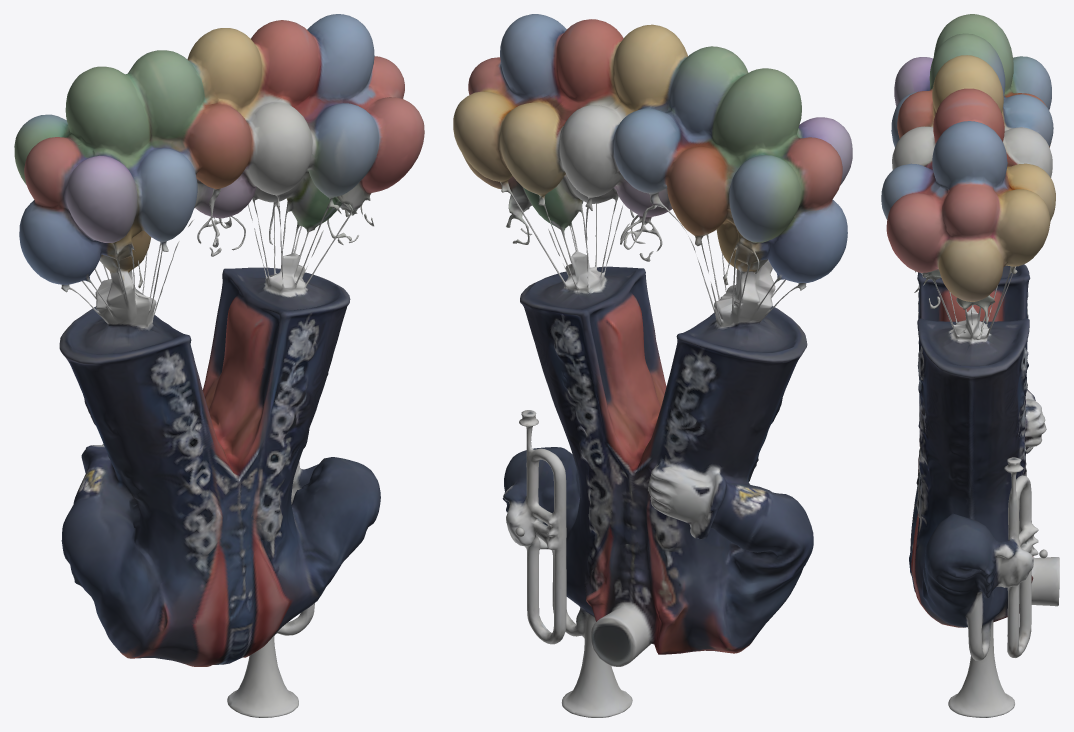
Rendered from Baron_von_Bounce.glb.
3 views of the same model, side by side, from view 1: azimuth 30°, elevation 25°; view 2: azimuth 150°, elevation 25°; view 3: azimuth 270°, elevation 25° (orthographic). The views are drawn at different scales.
Parts seen in each view (by area): view 1: geometry_0; view 2: geometry_0; view 3: geometry_0.
Part boxes in pixels (x1,y1,x2,y2): geometry_0: (14, 14, 424, 717); geometry_0: (453, 14, 852, 717); geometry_0: (881, 14, 1059, 717).
Size of the model in its own units: 0.877 by 1.5 by 0.3878.
1 material, 1 textured.
